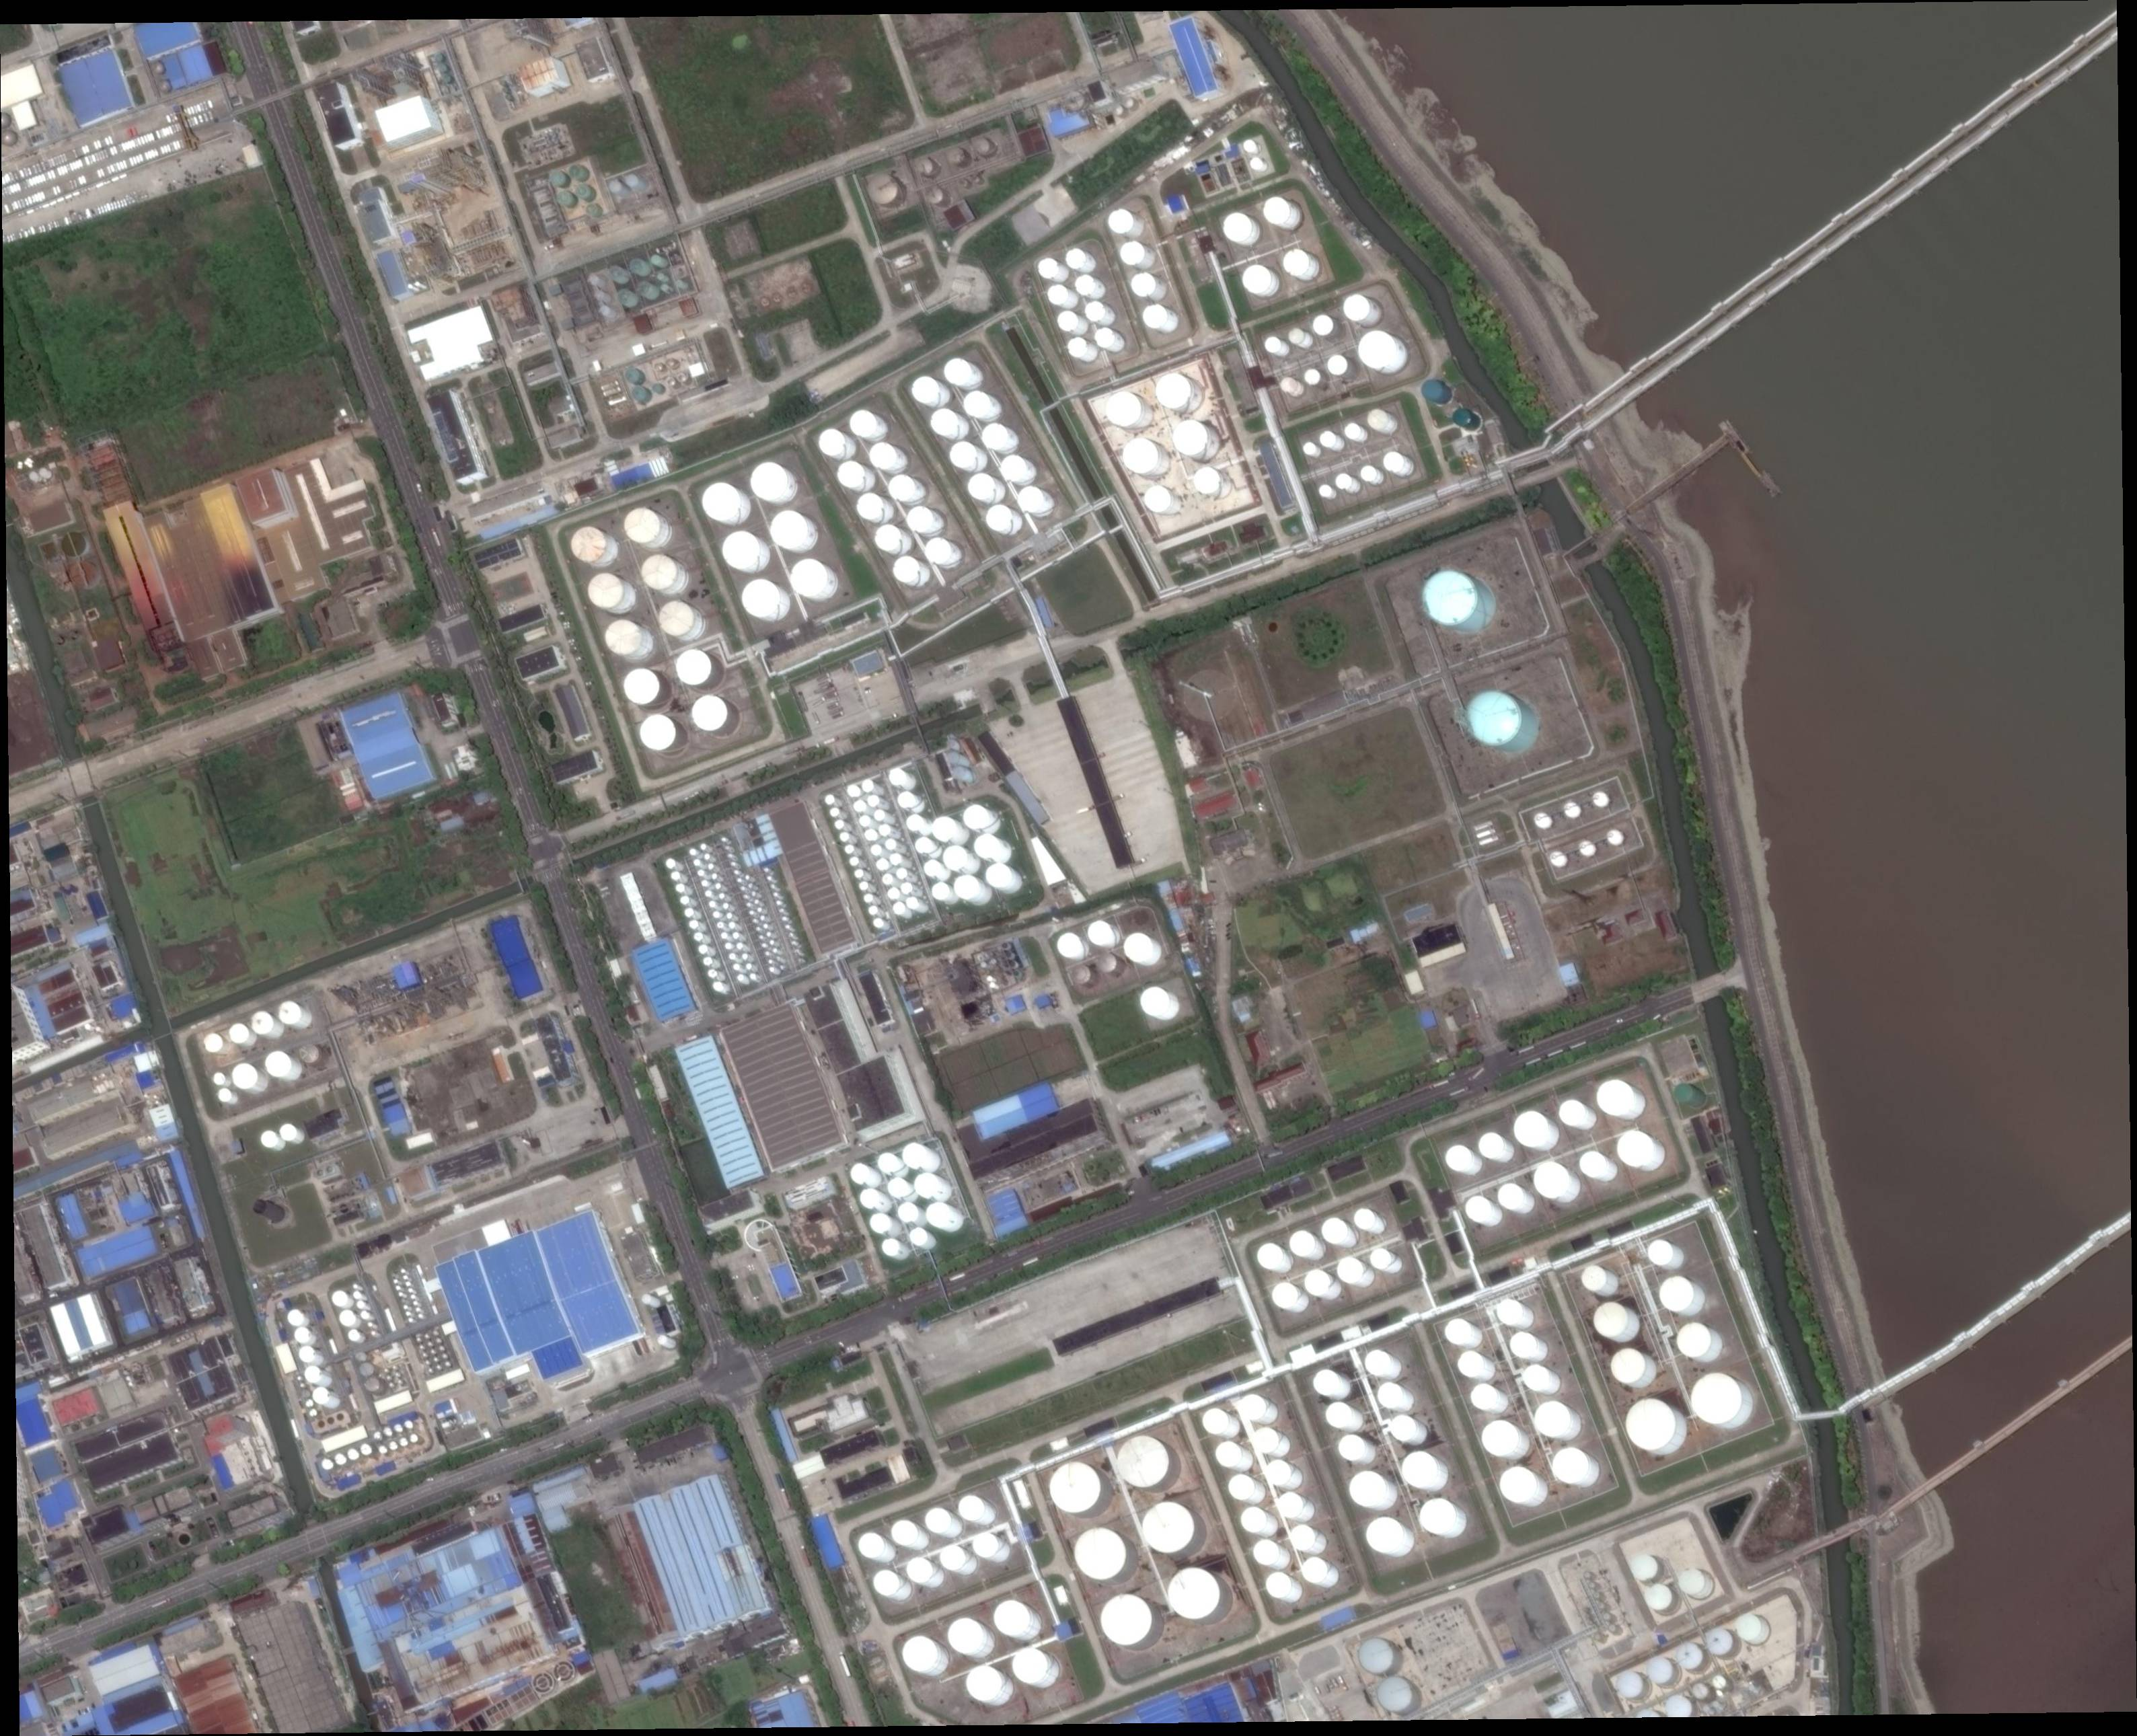storage tank: (1421, 570, 1480, 624), (1467, 691, 1520, 746), (1074, 1527, 1127, 1580), (1099, 1594, 1154, 1646), (1168, 1568, 1221, 1619), (1116, 1437, 1170, 1488), (1690, 1373, 1742, 1424), (1143, 1502, 1194, 1554), (1049, 1461, 1100, 1513), (1627, 1398, 1676, 1451), (702, 484, 741, 523), (721, 531, 760, 570), (769, 510, 808, 549), (1357, 329, 1396, 368), (751, 462, 789, 501), (742, 579, 780, 618), (1348, 1470, 1387, 1507), (1402, 1451, 1439, 1490), (624, 668, 661, 705), (1552, 1447, 1589, 1484), (1533, 1162, 1570, 1199), (902, 1635, 939, 1672), (792, 560, 828, 599), (641, 554, 677, 592), (640, 716, 677, 751), (1366, 1518, 1403, 1554), (1659, 1275, 1694, 1313), (1419, 1499, 1457, 1534), (1618, 1132, 1655, 1167), (1481, 1421, 1519, 1456), (1501, 1467, 1538, 1502), (1513, 1111, 1549, 1148), (1597, 1081, 1634, 1116), (657, 601, 693, 638), (675, 650, 712, 686), (691, 696, 728, 732), (994, 1600, 1030, 1637), (588, 574, 624, 609), (606, 620, 641, 655), (1123, 439, 1159, 475), (1593, 1302, 1628, 1337), (1611, 1348, 1646, 1383), (1676, 1323, 1712, 1359), (1536, 1401, 1572, 1437), (1107, 391, 1143, 427), (624, 508, 661, 542), (571, 528, 606, 562), (1157, 374, 1193, 407), (1173, 422, 1208, 455), (1359, 1639, 1393, 1674), (1377, 1678, 1412, 1711), (948, 1619, 983, 1653), (967, 1667, 1001, 1702), (1014, 1649, 1047, 1683), (866, 174, 898, 204), (1123, 932, 1154, 962), (1242, 266, 1272, 294), (1223, 213, 1251, 243), (1141, 987, 1170, 1017), (69, 562, 97, 590), (944, 358, 973, 386), (888, 475, 916, 501), (893, 556, 920, 585), (925, 537, 952, 565), (868, 443, 897, 469), (838, 461, 865, 489), (851, 409, 877, 438), (819, 427, 845, 455), (1288, 1231, 1317, 1258), (1263, 1460, 1292, 1486), (1313, 1369, 1341, 1396), (1263, 197, 1290, 225), (1343, 294, 1370, 322), (1644, 1584, 1673, 1610), (1646, 1656, 1673, 1685), (1524, 1364, 1550, 1392), (930, 409, 959, 436), (891, 1520, 920, 1546), (967, 473, 996, 500), (985, 505, 1014, 531), (875, 526, 902, 553), (907, 507, 934, 533), (232, 1063, 259, 1089), (266, 1050, 292, 1077), (1735, 1614, 1761, 1640), (1272, 1283, 1299, 1309), (1322, 1217, 1348, 1244), (1228, 1474, 1255, 1500), (1240, 1394, 1267, 1421), (1290, 1525, 1317, 1552), (1338, 1435, 1364, 1461), (1145, 487, 1171, 514), (1194, 468, 1221, 494), (1283, 250, 1309, 276), (1377, 1382, 1403, 1408), (1678, 1568, 1705, 1594), (1616, 1672, 1643, 1699), (1706, 1628, 1733, 1655), (1581, 1151, 1607, 1178), (1471, 1383, 1497, 1410), (1497, 1183, 1524, 1210), (1446, 1144, 1473, 1171), (1559, 1100, 1586, 1127), (925, 1507, 952, 1534), (913, 376, 939, 402), (874, 1569, 900, 1596), (907, 1557, 934, 1584), (950, 441, 976, 468), (982, 423, 1008, 450), (1019, 487, 1045, 514), (964, 804, 991, 831), (959, 1495, 985, 1522), (1203, 1408, 1230, 1435), (858, 492, 882, 521), (1302, 1557, 1327, 1585), (1444, 1320, 1473, 1345), (1458, 1350, 1483, 1378), (1510, 1332, 1538, 1357), (985, 864, 1014, 889), (999, 455, 1028, 480), (1255, 1539, 1279, 1566), (1304, 1270, 1329, 1297), (1338, 1258, 1363, 1284), (1240, 1507, 1265, 1534), (1391, 1415, 1416, 1442), (1255, 1428, 1279, 1454), (1325, 1403, 1352, 1428), (1581, 1267, 1607, 1291), (1648, 1240, 1673, 1267), (1632, 1555, 1659, 1580), (1676, 1644, 1703, 1669), (1497, 1298, 1522, 1325), (1467, 1196, 1492, 1222), (1478, 1134, 1504, 1159), (939, 1546, 966, 1571), (902, 1143, 927, 1169), (914, 1173, 939, 1199), (973, 834, 999, 859), (964, 391, 991, 416), (1107, 209, 1134, 234), (973, 1532, 999, 1557), (1216, 1442, 1242, 1467), (953, 875, 980, 900), (62, 533, 87, 558), (1258, 1244, 1283, 1268), (1267, 1573, 1292, 1598), (1278, 1493, 1302, 1518), (1366, 1350, 1391, 1375), (859, 1532, 884, 1557), (927, 1203, 952, 1228), (1120, 241, 1145, 266), (1131, 273, 1155, 298), (1143, 305, 1168, 329), (1056, 934, 1081, 958), (1666, 1695, 1692, 1718), (278, 1001, 301, 1026), (932, 817, 955, 841), (944, 847, 967, 872), (1088, 921, 1113, 944), (250, 1011, 273, 1035), (1056, 310, 1079, 333), (1368, 407, 1389, 430), (1038, 257, 1060, 280), (1095, 951, 1118, 973), (1370, 1249, 1391, 1270), (1354, 1208, 1375, 1229), (1384, 452, 1405, 473), (1313, 315, 1334, 337), (1327, 354, 1348, 376), (1423, 379, 1444, 400), (870, 1213, 891, 1235), (898, 1203, 920, 1224), (1065, 248, 1086, 269), (1067, 337, 1088, 358), (1084, 301, 1106, 322), (204, 1033, 223, 1054), (861, 1189, 881, 1210), (851, 1164, 870, 1185), (879, 1153, 898, 1174), (888, 1178, 909, 1197), (1047, 285, 1068, 305), (1076, 275, 1095, 296), (1095, 328, 1115, 349), (1070, 964, 1092, 983), (229, 1024, 248, 1043), (299, 1043, 319, 1063), (1453, 407, 1473, 427), (1065, 92, 1084, 112), (946, 147, 966, 165), (1675, 1084, 1694, 1102), (916, 158, 934, 175), (260, 1130, 278, 1148), (1304, 368, 1322, 386), (907, 813, 925, 831), (914, 836, 932, 854), (932, 882, 950, 900), (882, 1238, 900, 1256), (911, 1228, 929, 1245), (888, 769, 905, 787), (973, 138, 991, 156), (897, 792, 916, 808), (925, 188, 943, 204), (331, 1290, 349, 1306), (338, 1311, 356, 1327), (280, 1123, 296, 1141), (287, 1309, 305, 1325), (305, 1366, 321, 1383), (551, 170, 567, 188), (1345, 422, 1361, 439), (1265, 337, 1281, 354), (1320, 430, 1336, 448), (1692, 1683, 1710, 1699), (1549, 852, 1566, 868), (1607, 829, 1623, 847), (925, 859, 941, 877), (363, 1376, 379, 1392), (2, 131, 18, 147), (299, 1346, 315, 1362), (314, 1387, 330, 1403), (629, 259, 645, 275), (1361, 466, 1377, 482), (1281, 377, 1297, 393), (1336, 473, 1352, 489), (1535, 811, 1550, 827), (1565, 802, 1581, 818), (1593, 792, 1609, 808), (558, 190, 572, 207), (218, 1088, 232, 1104), (294, 1329, 310, 1343), (617, 289, 631, 305), (636, 282, 652, 296), (626, 367, 640, 383), (631, 386, 647, 400), (1288, 329, 1304, 344), (1581, 841, 1595, 857), (360, 1362, 374, 1376), (151, 62, 165, 76), (158, 80, 172, 94), (213, 1072, 227, 1086), (578, 184, 592, 198), (608, 179, 622, 193), (626, 174, 640, 188), (610, 266, 624, 280), (1302, 441, 1317, 455), (1318, 484, 1333, 498), (875, 857, 890, 872), (905, 896, 920, 911), (953, 765, 966, 781), (1712, 1676, 1728, 1688), (253, 1199, 266, 1213), (571, 165, 583, 179), (1244, 138, 1256, 152), (1249, 158, 1263, 170), (847, 785, 861, 797), (890, 852, 902, 866), (893, 902, 905, 916), (664, 857, 677, 870), (321, 1458, 333, 1470), (347, 1447, 360, 1460), (360, 1444, 372, 1456), (347, 1329, 360, 1341), (946, 751, 959, 763), (854, 801, 866, 813), (859, 815, 872, 827), (874, 810, 886, 822), (865, 829, 877, 841), (884, 838, 897, 850), (888, 887, 900, 900), (588, 204, 599, 218), (863, 779, 874, 794), (0, 113, 11, 128), (656, 1334, 668, 1345), (677, 372, 688, 384), (354, 1352, 367, 1362), (599, 305, 610, 317), (588, 275, 599, 287), (650, 253, 661, 266), (946, 739, 959, 749), (1123, 97, 1134, 110), (868, 795, 879, 808), (879, 825, 891, 836), (870, 845, 882, 856), (897, 866, 907, 879), (902, 882, 913, 895), (1113, 105, 1123, 117), (693, 932, 703, 942), (707, 969, 718, 980), (641, 1293, 652, 1304), (824, 794, 835, 804), (335, 1454, 346, 1465), (383, 1426, 393, 1437), (595, 291, 606, 301), (829, 808, 840, 818), (868, 905, 879, 916), (874, 918, 884, 928), (882, 875, 893, 886), (801, 283, 812, 294), (698, 944, 707, 955), (670, 872, 680, 880), (680, 895, 689, 905), (684, 909, 695, 918), (689, 919, 698, 930), (703, 957, 712, 967), (712, 981, 721, 992), (668, 358, 677, 368), (835, 820, 845, 829), (377, 1445, 388, 1454), (388, 1440, 397, 1451), (360, 1311, 370, 1320), (656, 271, 664, 282), (654, 383, 663, 393), (434, 53, 445, 62), (399, 1437, 408, 1447), (409, 1433, 418, 1444), (849, 857, 859, 866), (859, 880, 868, 891), (789, 289, 797, 299), (677, 884, 686, 893), (712, 911, 721, 919), (668, 377, 677, 386), (735, 942, 744, 951), (656, 363, 664, 372), (374, 1431, 383, 1440), (356, 1300, 365, 1309), (301, 1389, 310, 1398), (393, 1424, 402, 1433), (439, 64, 448, 73), (443, 76, 452, 85), (404, 1421, 413, 1430), (840, 833, 849, 841), (1609, 1624, 1618, 1633), (845, 845, 854, 854), (773, 294, 781, 303), (854, 870, 863, 879), (865, 895, 874, 903), (973, 175, 982, 184), (960, 179, 969, 188), (1008, 962, 1017, 971), (760, 299, 771, 306), (734, 964, 741, 973), (705, 889, 712, 898), (725, 942, 732, 951), (728, 953, 737, 960), (750, 973, 757, 981), (353, 1291, 361, 1298), (310, 1408, 317, 1417), (305, 1399, 314, 1407), (326, 1166, 333, 1174), (663, 285, 670, 294), (1598, 1601, 1605, 1610), (1584, 1571, 1591, 1580), (1593, 1591, 1600, 1600), (1604, 1612, 1611, 1621), (1593, 1631, 1600, 1640), (1006, 951, 1014, 960), (689, 849, 696, 856), (693, 859, 700, 866), (702, 880, 709, 887), (709, 902, 716, 909), (721, 932, 728, 939), (505, 94, 512, 101), (794, 949, 801, 957), (767, 958, 774, 965), (760, 942, 767, 949), (703, 854, 711, 861), (707, 863, 714, 870), (711, 873, 718, 880), (714, 882, 721, 889), (718, 893, 725, 900), (727, 912, 734, 919), (728, 923, 735, 930), (732, 932, 739, 939), (741, 953, 748, 960), (328, 1417, 335, 1424), (337, 1414, 344, 1421), (317, 1169, 324, 1176), (989, 981, 996, 988), (980, 962, 987, 969), (1001, 942, 1008, 949), (1014, 971, 1021, 978), (698, 870, 703, 877), (718, 923, 725, 928), (737, 974, 742, 981), (744, 875, 751, 880), (751, 891, 757, 898), (757, 907, 762, 914), (762, 923, 769, 928), (700, 845, 707, 850), (789, 932, 794, 939), (746, 964, 751, 971), (725, 845, 730, 852), (746, 902, 751, 909), (751, 918, 757, 925), (503, 87, 509, 94), (319, 1421, 324, 1428), (353, 1283, 358, 1290), (367, 1321, 372, 1329), (386, 1375, 392, 1382), (388, 1383, 395, 1389), (299, 1383, 307, 1389), (296, 1375, 301, 1382), (445, 1362, 452, 1368), (432, 1357, 439, 1362), (432, 1330, 439, 1336), (1589, 1582, 1595, 1589), (985, 976, 992, 981), (422, 978, 427, 983), (429, 976, 434, 981), (780, 965, 785, 971), (769, 967, 774, 973), (748, 884, 753, 889), (755, 900, 760, 905), (760, 916, 765, 921), (765, 932, 771, 937), (769, 941, 774, 946), (773, 949, 778, 955), (776, 957, 781, 962), (764, 866, 769, 872), (771, 884, 776, 889), (773, 893, 778, 898), (776, 900, 781, 905), (781, 918, 787, 923), (785, 925, 790, 930), (790, 941, 796, 946), (799, 958, 804, 964), (765, 951, 771, 957), (758, 935, 764, 941), (723, 903, 728, 909), (721, 838, 727, 843), (727, 854, 732, 859), (730, 863, 735, 868), (734, 870, 739, 875), (735, 879, 741, 884), (741, 886, 746, 891), (742, 895, 748, 900), (750, 911, 755, 916), (755, 926, 760, 932), (395, 1373, 400, 1378), (370, 1330, 376, 1336), (385, 1368, 390, 1373), (399, 1380, 404, 1385), (500, 81, 505, 87), (402, 1275, 408, 1281), (393, 1279, 399, 1284), (400, 1268, 406, 1274), (429, 1369, 434, 1375), (436, 1366, 441, 1371), (425, 1360, 431, 1366), (441, 1353, 447, 1359), (422, 1353, 427, 1359), (431, 1350, 436, 1355), (439, 1346, 445, 1352), (416, 1337, 422, 1343), (425, 1334, 431, 1339), (408, 1318, 413, 1323), (767, 877, 771, 882), (780, 909, 785, 912), (393, 1366, 397, 1371), (406, 1283, 411, 1286), (395, 1286, 400, 1290), (408, 1290, 413, 1293), (436, 1339, 441, 1343), (429, 1341, 432, 1346), (418, 1346, 424, 1350), (418, 1314, 422, 1320), (406, 1313, 411, 1316), (416, 1307, 420, 1313), (404, 1306, 408, 1311), (413, 1302, 418, 1306), (411, 1295, 416, 1298), (399, 1293, 402, 1297)
